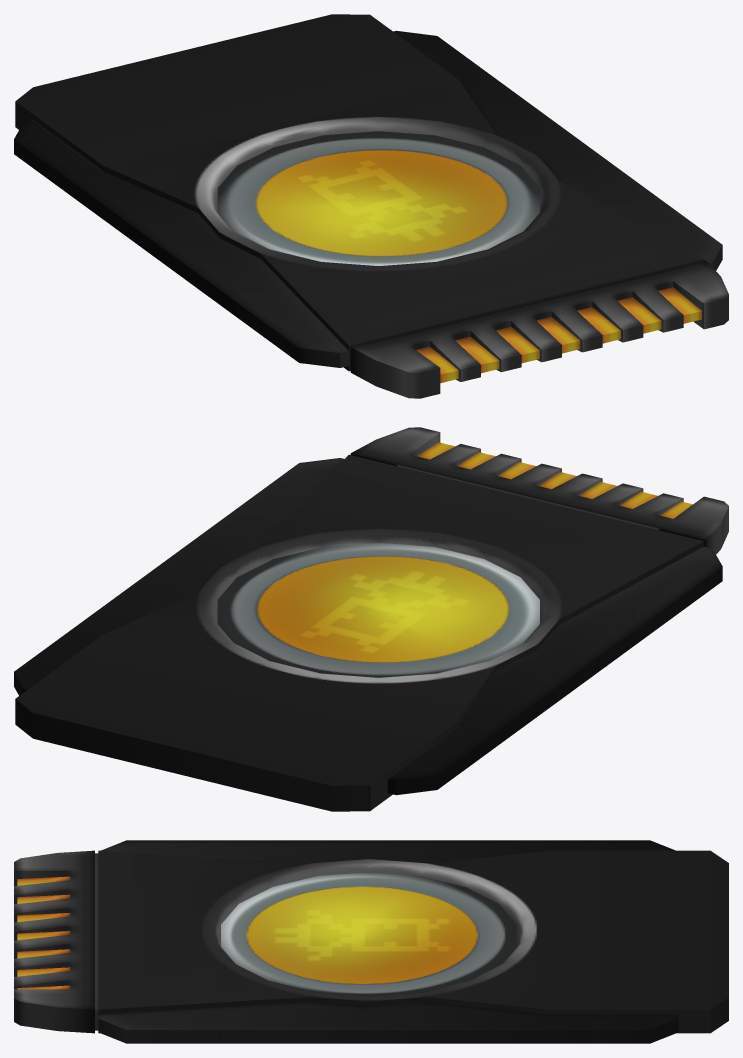
Rendered from CoreChip.FBX.
The picture shows the model from 3 angles, top to bottom: view 1: azimuth 30°, elevation 25°; view 2: azimuth 150°, elevation 25°; view 3: azimuth 270°, elevation 25°; orthographic projection. The views are drawn at different scales.
Visible parts, largest first — view 1: CoreChip; view 2: CoreChip; view 3: CoreChip.
Part boxes in pixels (x1=…): CoreChip: x1=14, y1=14, x2=728, y2=398; CoreChip: x1=14, y1=427, x2=728, y2=811; CoreChip: x1=14, y1=840, x2=728, y2=1043.
Size of the model in its own units: 116 by 7.29 by 185.
Materials: 1 (1 with a texture image).
